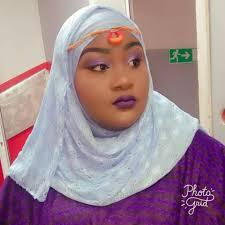No Mask: (59, 21, 180, 166)
